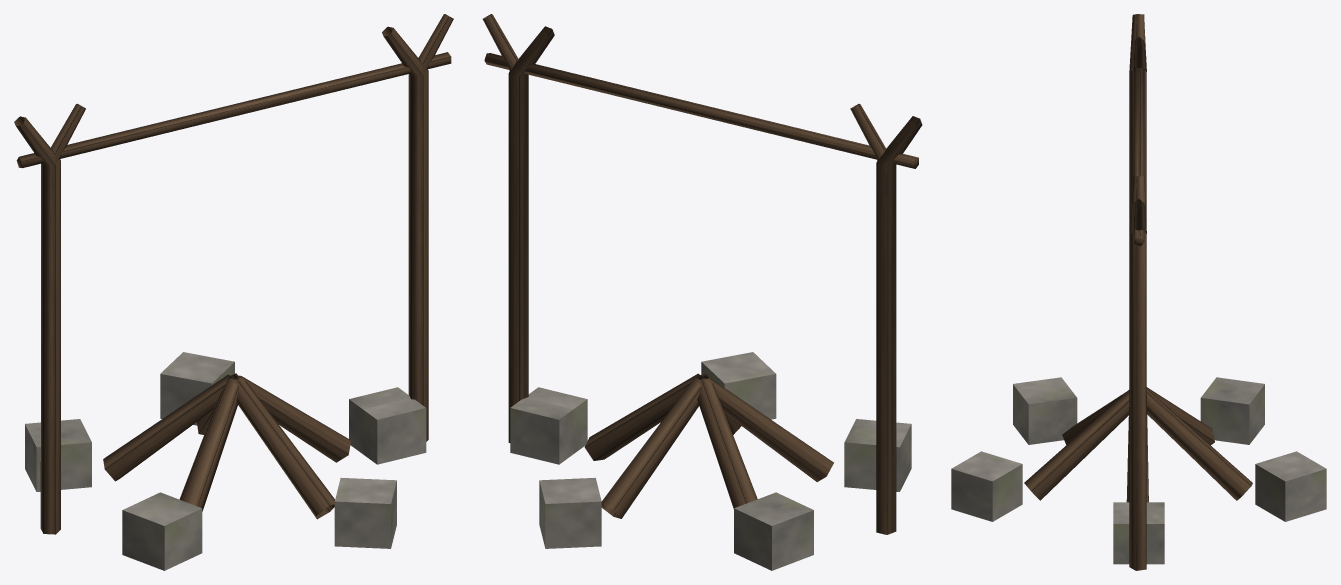
Rendered from Campfire_Spit_1_LOD1.gltf.
3 renders of one model, left to right at view 1: azimuth 30°, elevation 25°; view 2: azimuth 150°, elevation 25°; view 3: azimuth 270°, elevation 25°, orthographic. The views are drawn at different scales.
Visible parts, largest first — view 1: Campfire_Spit_1_LOD1; view 2: Campfire_Spit_1_LOD1; view 3: Campfire_Spit_1_LOD1.
Boxes of the visible parts, x1,y1,x2,y2 form: Campfire_Spit_1_LOD1: (14,14,453,570); Campfire_Spit_1_LOD1: (482,14,922,570); Campfire_Spit_1_LOD1: (951,14,1326,570).
Size of the model in its own units: 1.43 by 1.31 by 1.17.
Materials: 2 (2 with a texture image).
